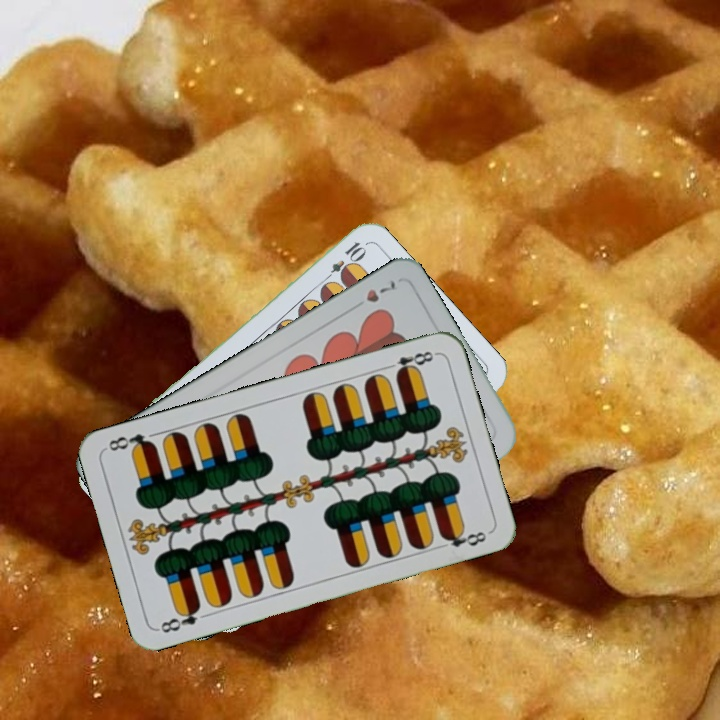E10: (319, 237, 368, 286)
E8: (381, 347, 439, 378), (155, 601, 203, 636)
H7: (347, 275, 400, 313)
